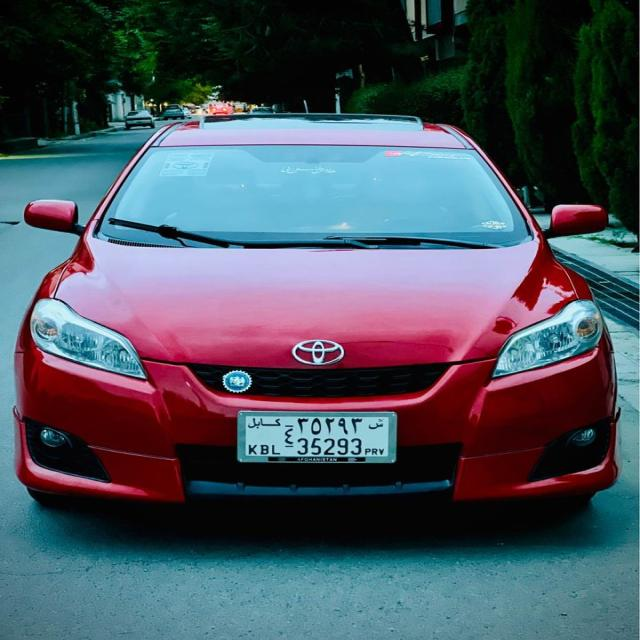Plate: (233, 408, 401, 468)
